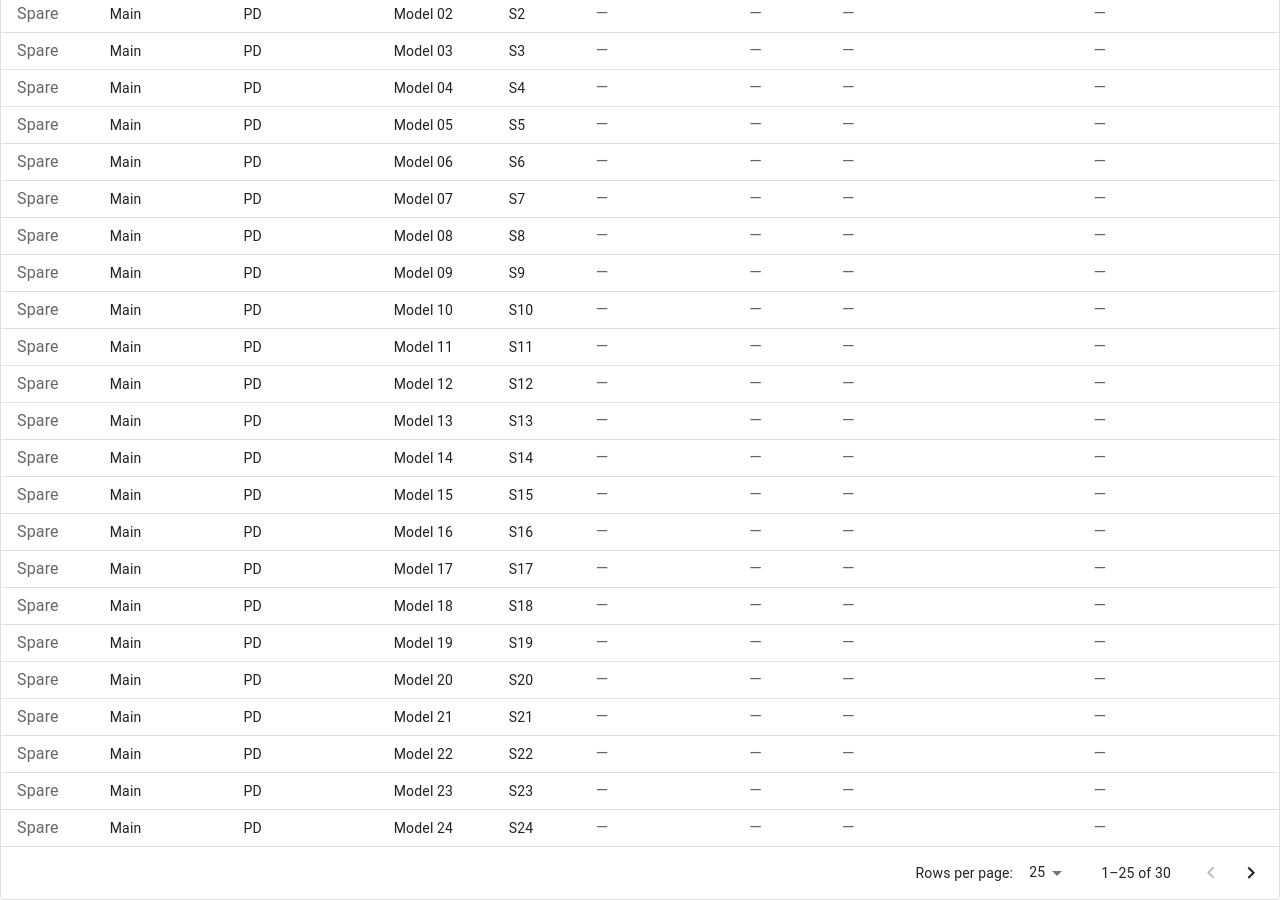
Test: GearGrid › pagination › lets the visitor choose how many rows a page shows
(page scrolled)
Click the dropdown named "rows per page" at coordinates (1037, 872), box [1029,864,1045,880]
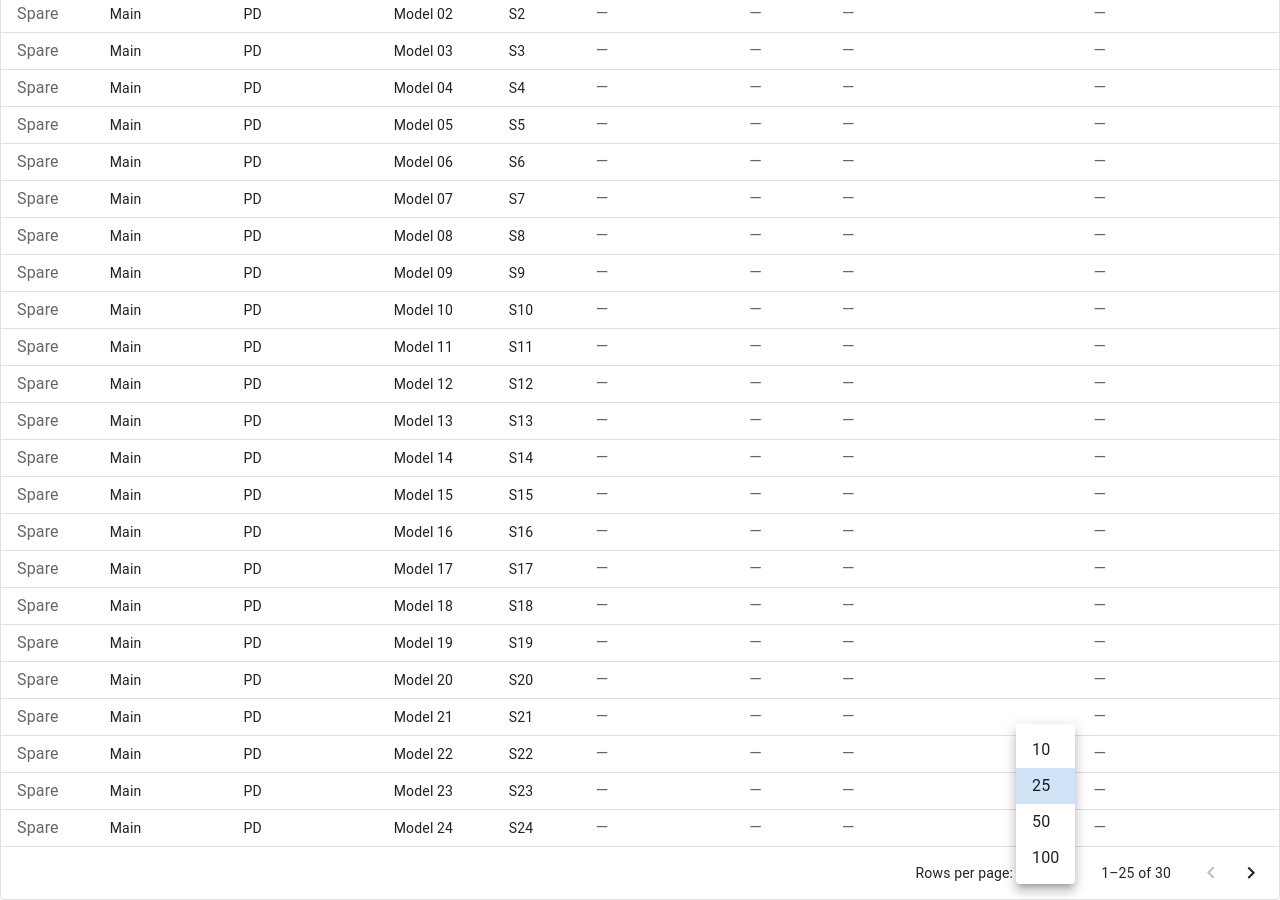
Click the option "10" at coordinates (1041, 750), box [1032,740,1050,759]
(page scrolled)
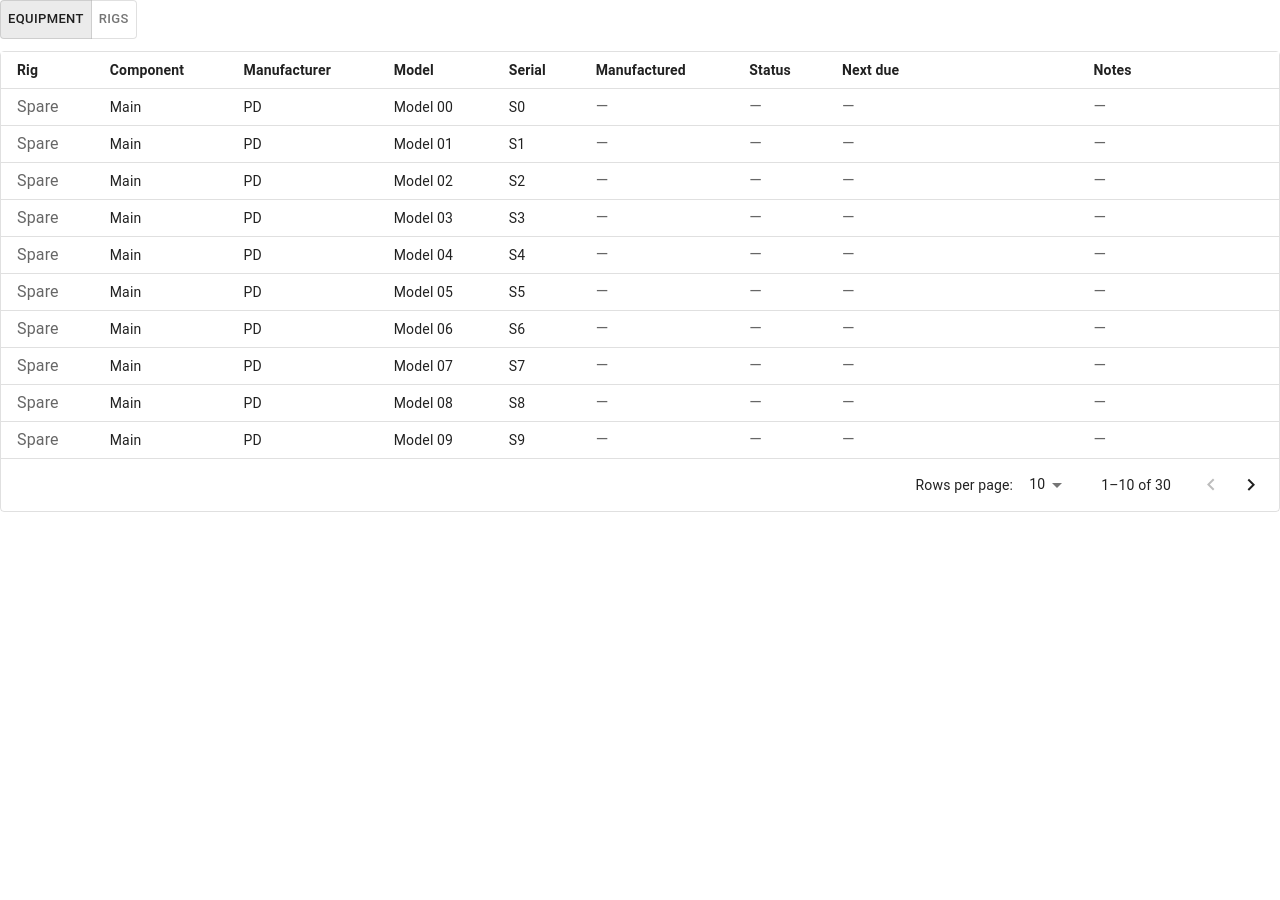
Expected: the text "1–10 of 30" is shown, [1101,475,1171,495]
